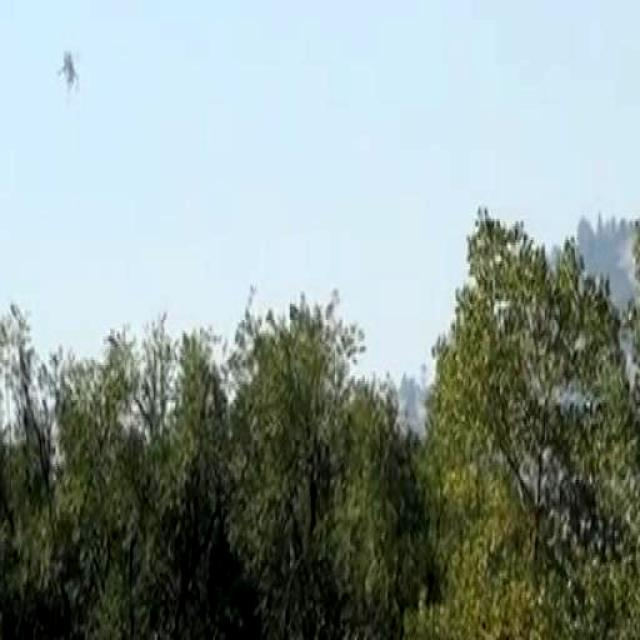drone: (56, 44, 80, 92)
